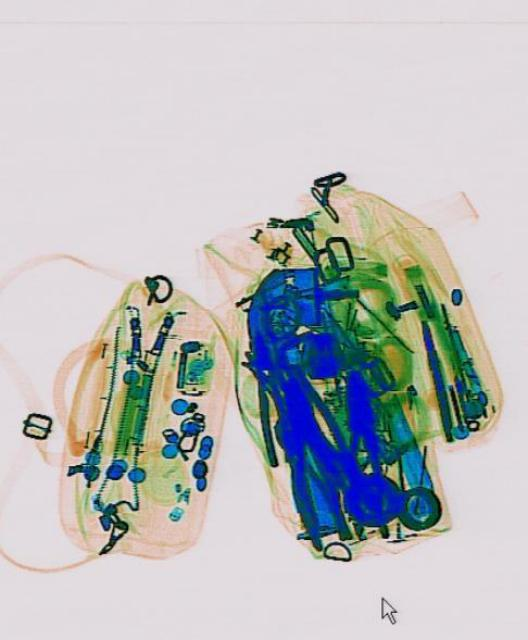Pliers: (259, 408, 351, 556), (334, 368, 386, 542), (241, 326, 299, 468)
